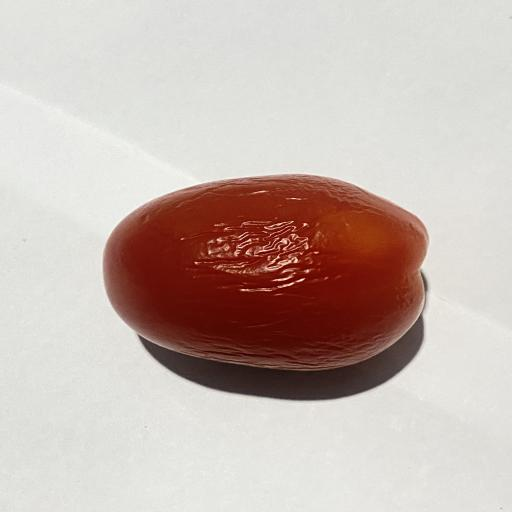spoiled: (103, 175, 428, 370)
